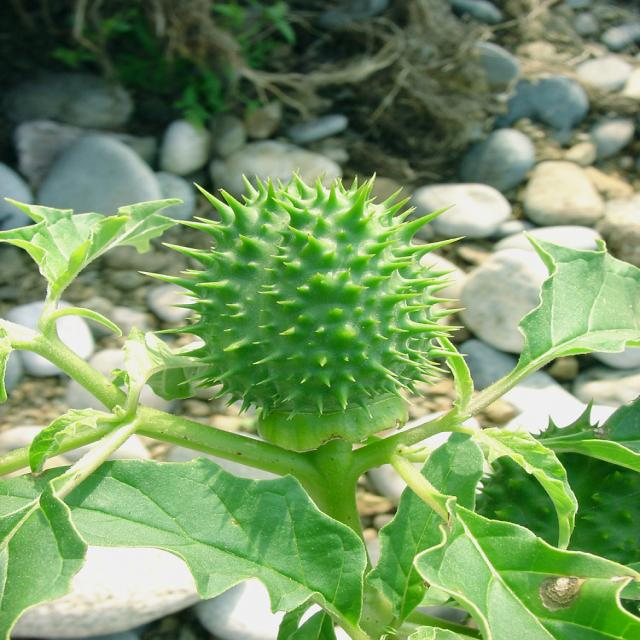Poisonous-Datura_Stramonium: (180, 154, 498, 499)
